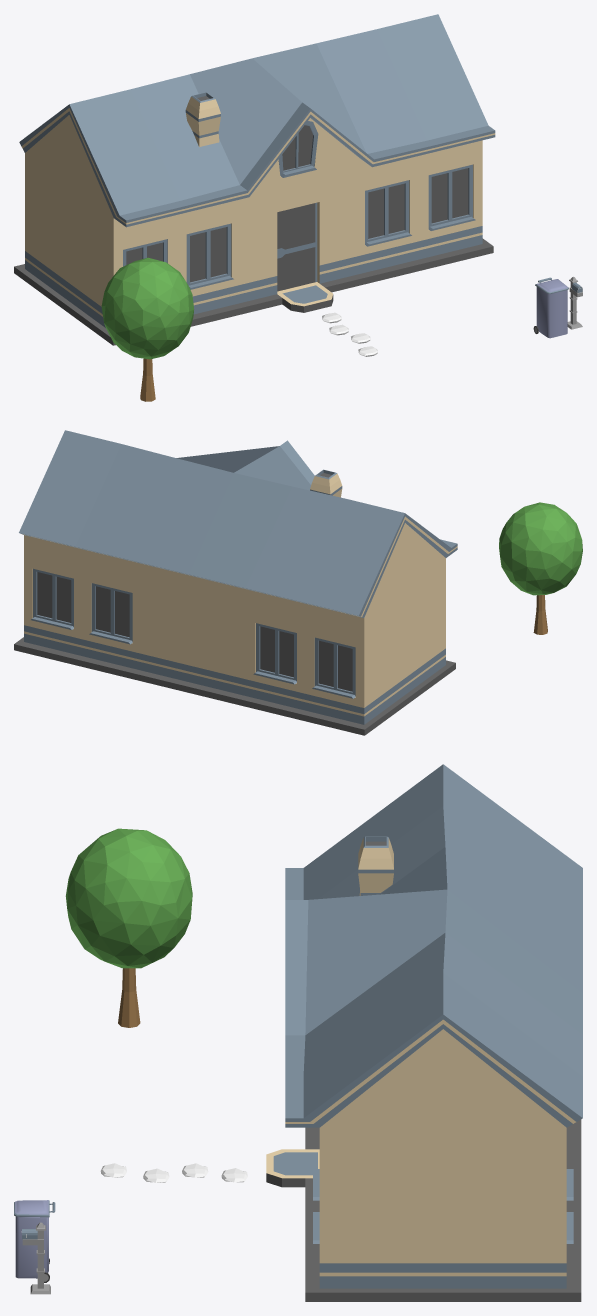
The model's file is House 3.fbx.
3 renders of one model, top to bottom at view 1: azimuth 30°, elevation 25°; view 2: azimuth 150°, elevation 25°; view 3: azimuth 270°, elevation 25°, orthographic. The views are drawn at different scales.
Parts seen in each view (by area): view 1: Building_39_Color_0; view 2: Building_39_Color_0; view 3: Building_39_Color_0.
Boxes of the visible parts, x1,y1,x2,y2 form: Building_39_Color_0: (14,14,582,401); Building_39_Color_0: (14,430,582,735); Building_39_Color_0: (14,764,582,1301).
Size of the model in its own units: 1763 by 775 by 1395.
Materials: 1 (1 with a texture image).
